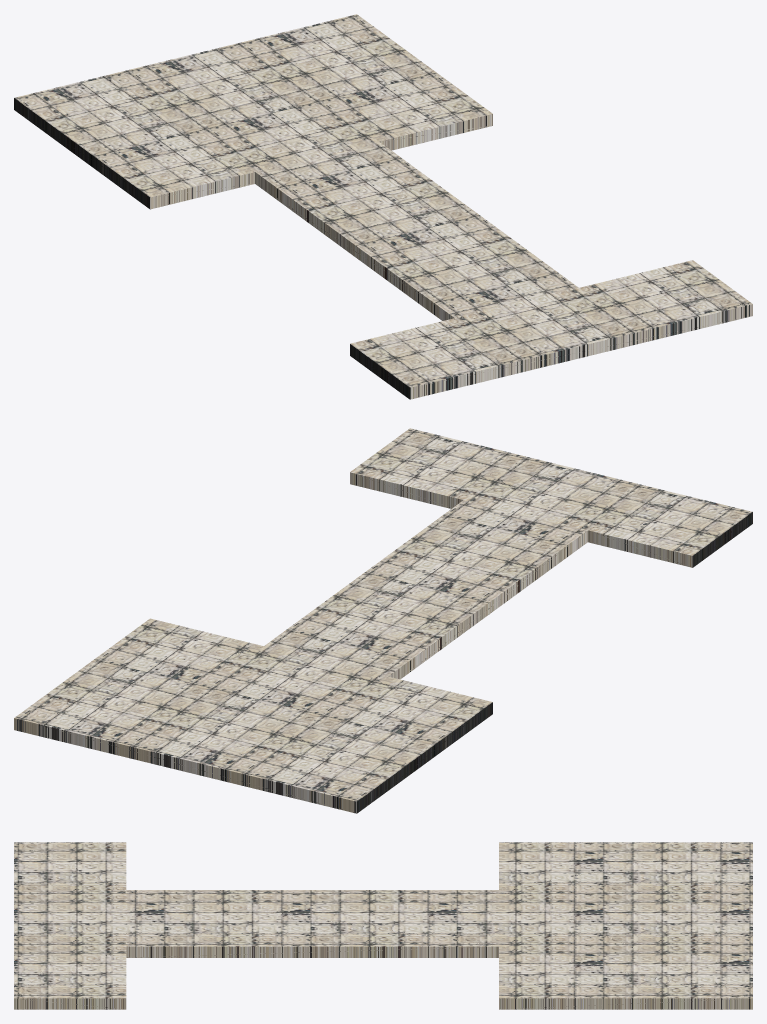
Rendered from Tfloor.fbx.
The picture shows the model from 3 angles, top to bottom: view 1: azimuth 30°, elevation 25°; view 2: azimuth 150°, elevation 25°; view 3: azimuth 270°, elevation 25°; orthographic projection. The views are drawn at different scales.
Visible parts, largest first — view 1: Box001; view 2: Box001; view 3: Box001.
Boxes of the visible parts, <box> form: Box001: <box>14,14,752,399</box>; Box001: <box>14,428,752,813</box>; Box001: <box>14,842,752,1009</box>.
Size of the model in its own units: 2304 by 76.8 by 4608.
